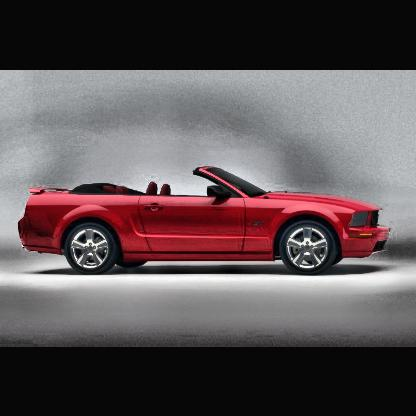Ford Mustang Convertible 2007: (18, 164, 395, 278)
